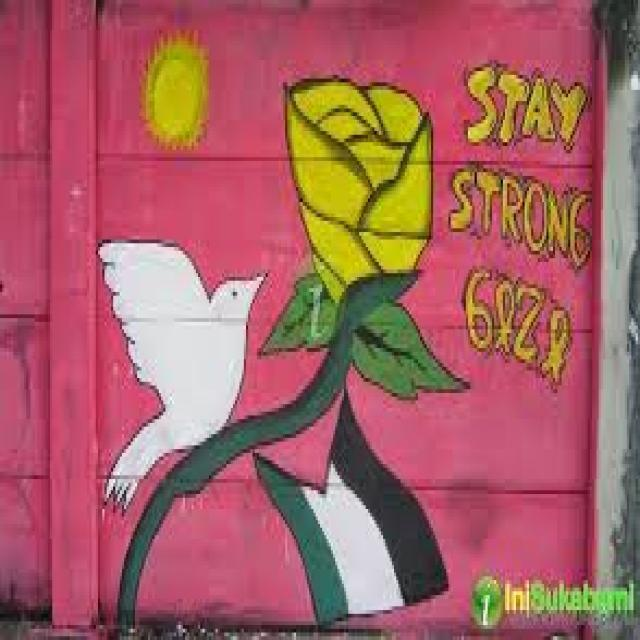-: (104, 33, 472, 629), (453, 59, 592, 380)
